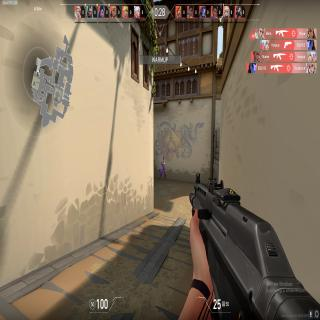ENEMY-BODY: (160, 156, 167, 183)
ENEMY-HEAD: (163, 157, 164, 161)
